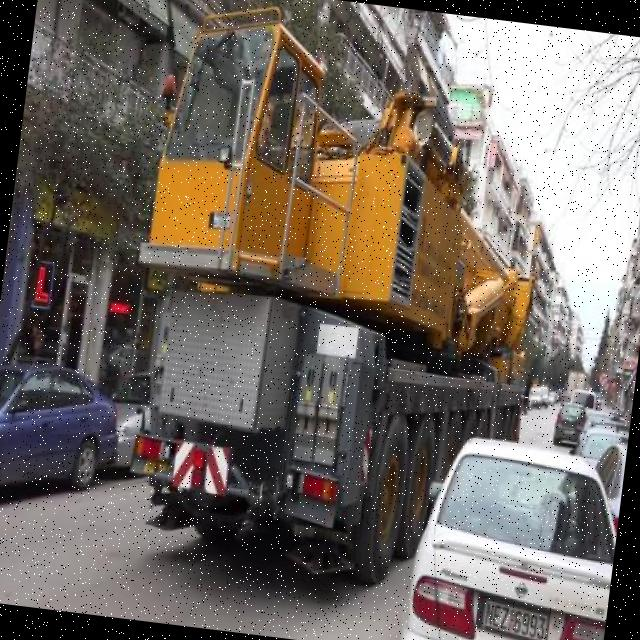Mobile Crane: (110, 10, 565, 597)
